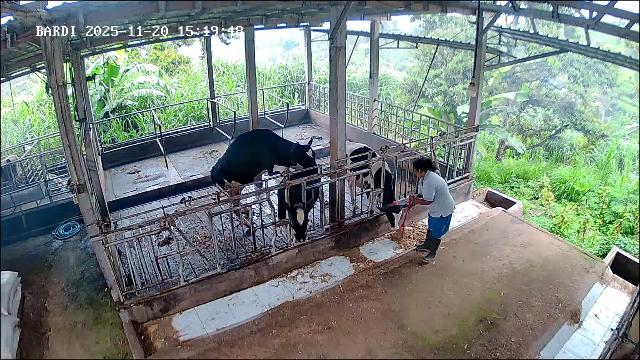mounting: (211, 129, 318, 229)
